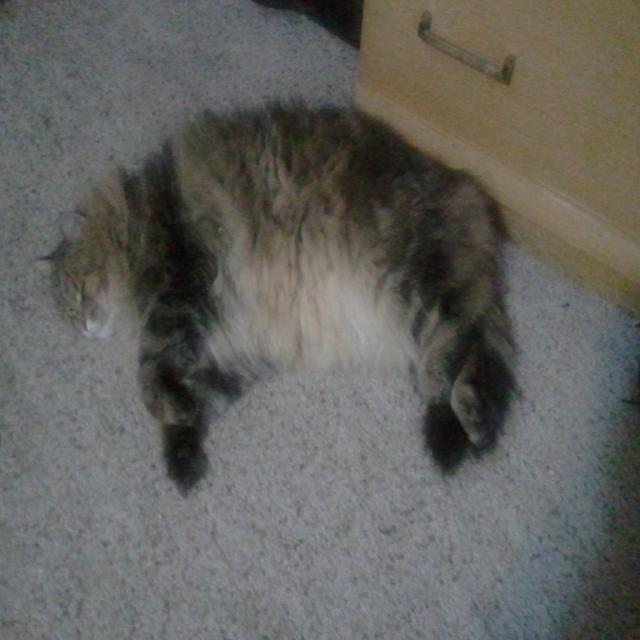Cat: (42, 86, 517, 502)
